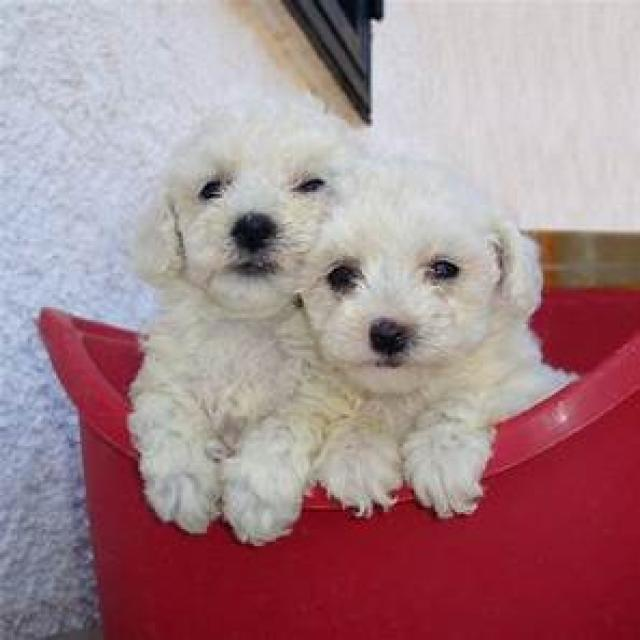dog: (295, 154, 573, 518), (129, 100, 349, 546)
